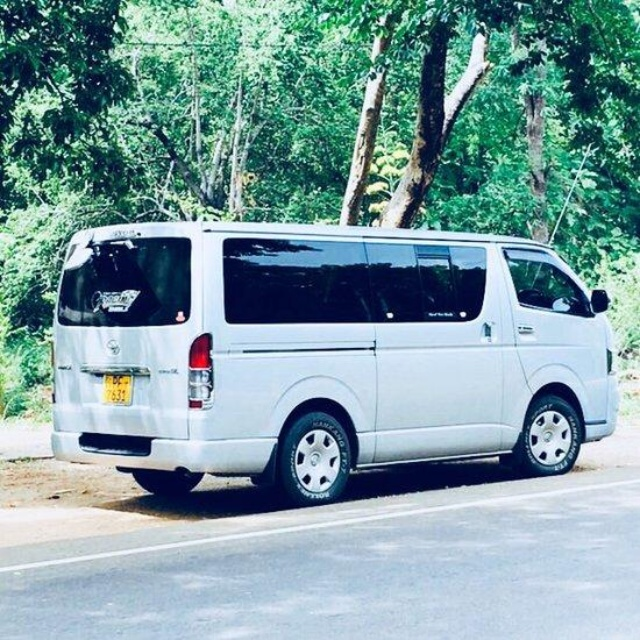Van: (50, 221, 620, 507)
